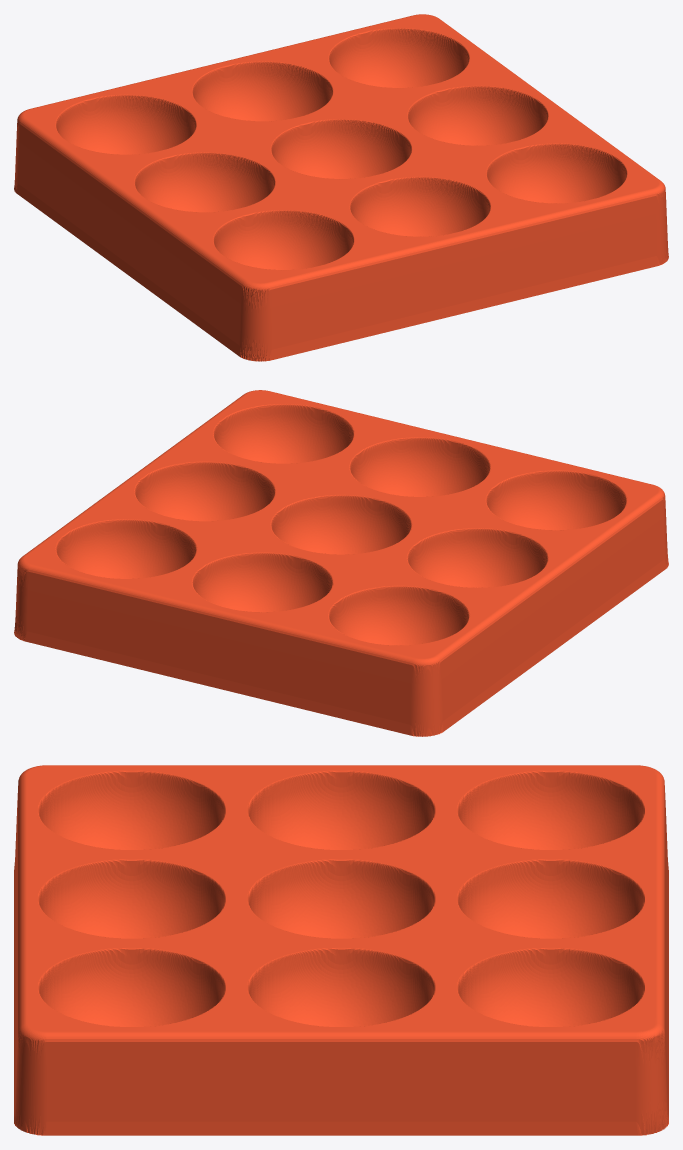
Rendered from mold.glb.
The picture shows the model from 3 angles, top to bottom: view 1: azimuth 30°, elevation 25°; view 2: azimuth 150°, elevation 25°; view 3: azimuth 270°, elevation 25°; orthographic projection. The views are drawn at different scales.
Parts seen in each view (by area): view 1: geometry_0; view 2: geometry_0; view 3: geometry_0.
Part boxes in pixels (x1,y1,x2,y2): geometry_0: (14,14,668,361); geometry_0: (14,390,668,736); geometry_0: (14,765,668,1135).
Size of the model in its own units: 0.1804 by 0.0299 by 0.1804.
